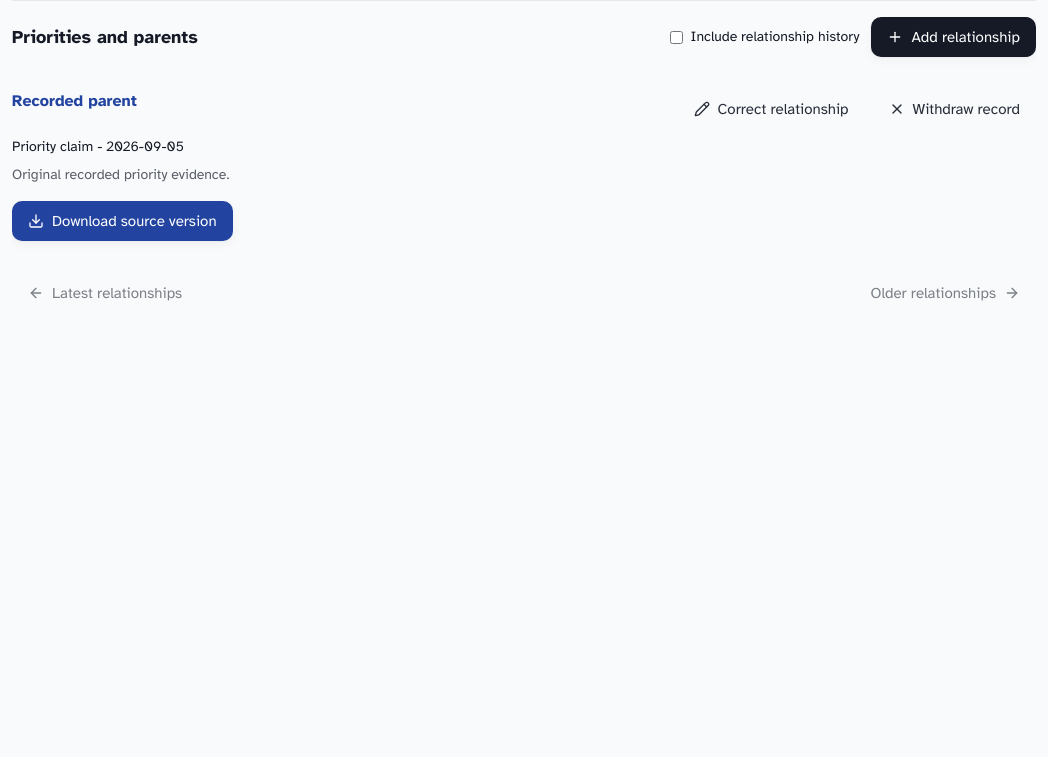
Test: Patent priorities and family graph › cancels stale list responses before applying a confirmed correction
The width and height of the screenshot is (1048, 757).
Click the button "Correct relationship". click: click(771, 109)
box: [678,89,864,129]
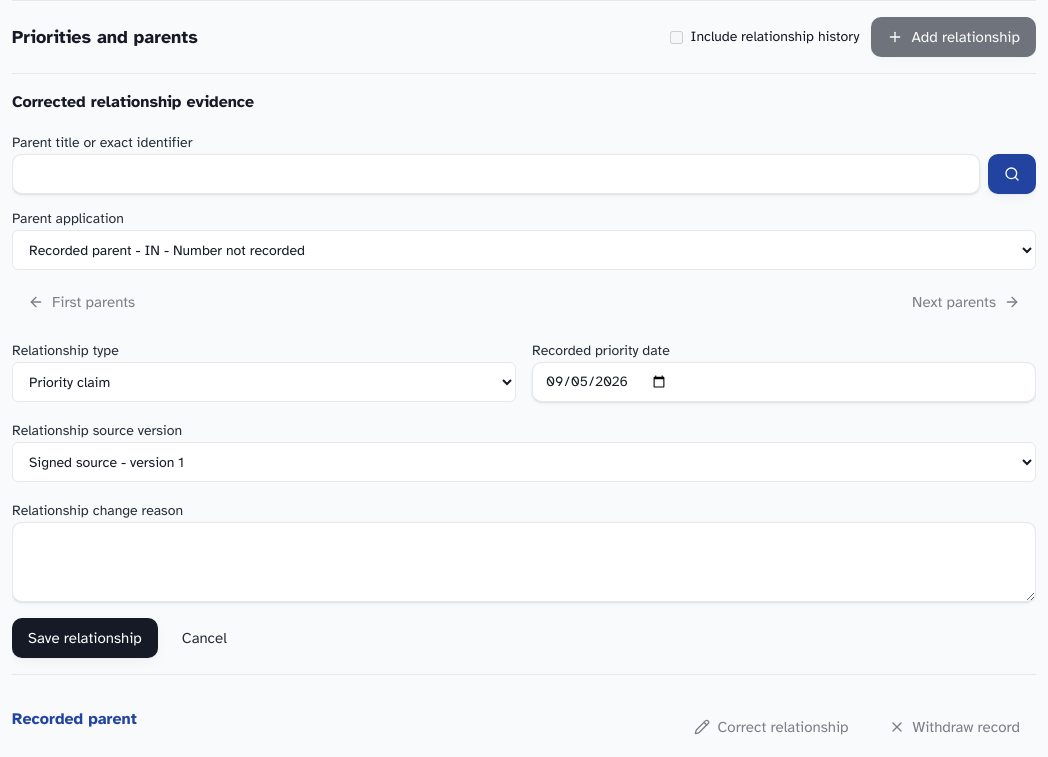
Result: the button "Save relationship" is enabled at [12,618,158,658]
Type "Corrected source transcription." into the text box labelled "Relationship change reason". click: (524, 562)
box: [12,522,1036,602]
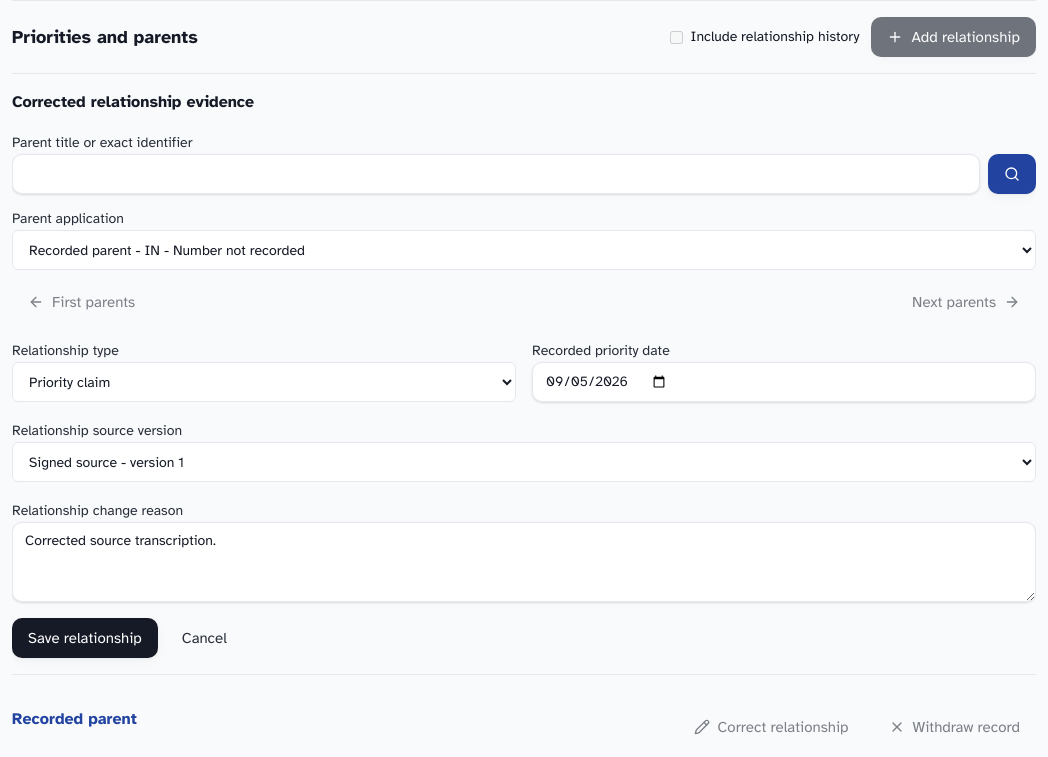
Click the button "Save relationship". click: click(85, 638)
box: [12,618,158,658]
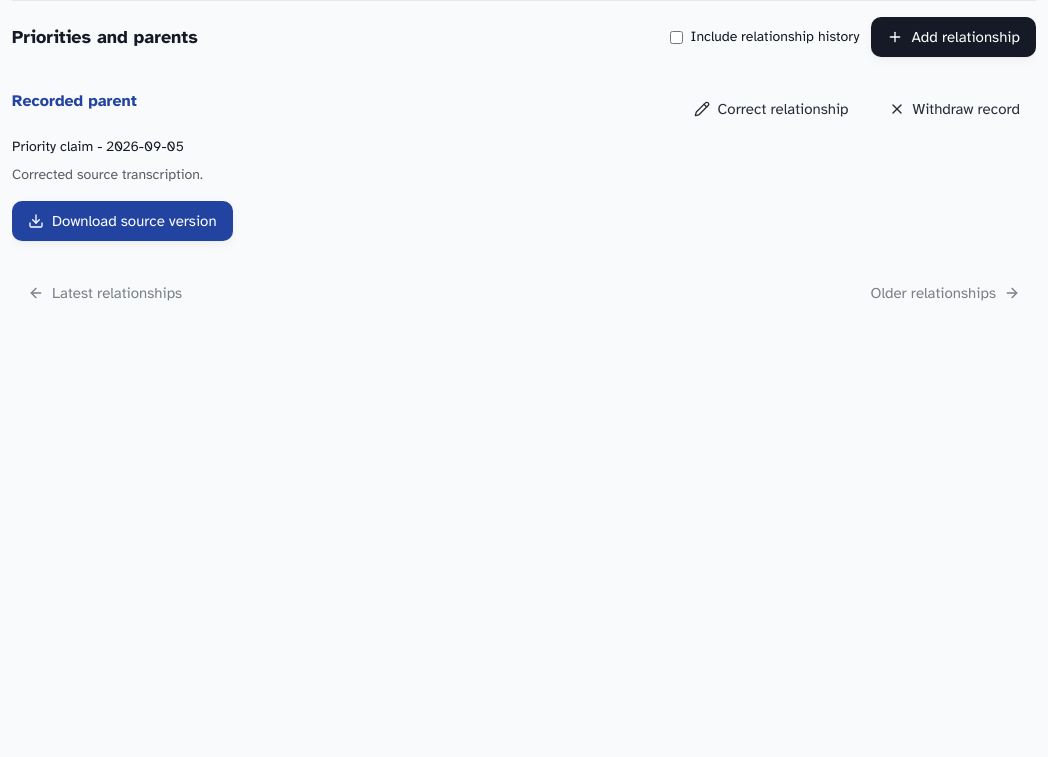
Result: the text "Corrected source transcription." is shown at [12,166,203,183]
